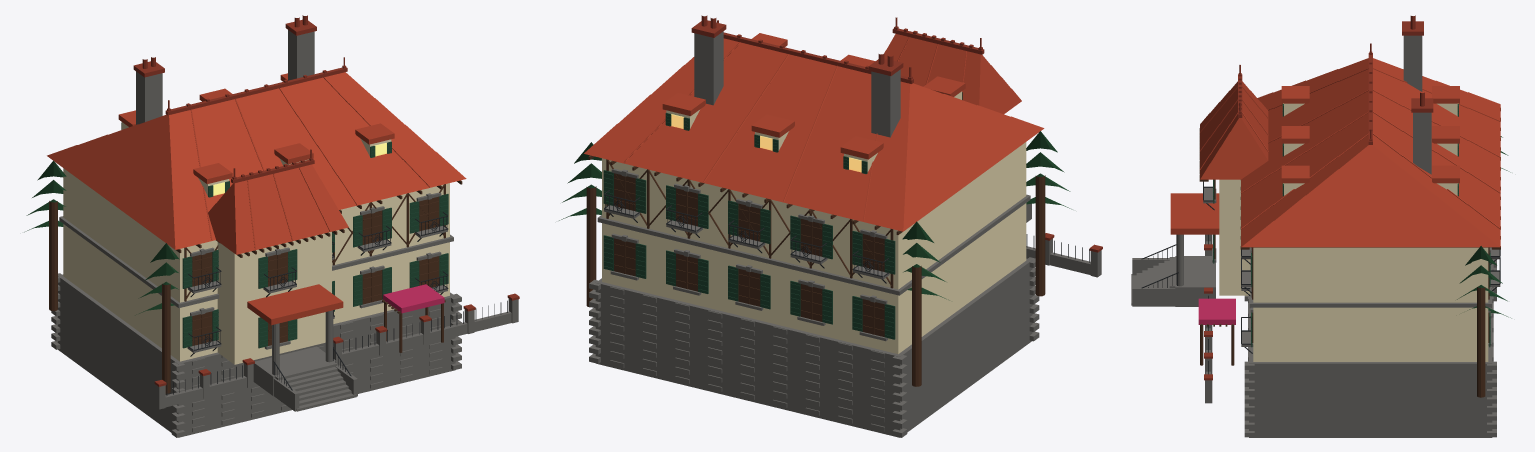
The model's file is fv_ll_06_ana_mandara_villa_17_basque.glb.
The picture shows the model from 3 angles, left to right: view 1: azimuth 30°, elevation 25°; view 2: azimuth 150°, elevation 25°; view 3: azimuth 270°, elevation 25°; orthographic projection. The views are drawn at different scales.
Parts seen in each view (by area): view 1: marseille_corrugated_roof_tiles, granite_foundation_and_stairs, stucco_facade_and_dormers, colombage_timber_and_eaves, pine_green_louvered_shutters, ridge_cresting_and_chimneys, wrought_iron_balconies_3d, pine_trees_and_garden_hedges, bougainvillea_pergola_clusters; view 2: marseille_corrugated_roof_tiles, granite_foundation_and_stairs, stucco_facade_and_dormers, colombage_timber_and_eaves, pine_green_louvered_shutters, ridge_cresting_and_chimneys, pine_trees_and_garden_hedges, wrought_iron_balconies_3d; view 3: marseille_corrugated_roof_tiles, stucco_facade_and_dormers, granite_foundation_and_stairs, colombage_timber_and_eaves, ridge_cresting_and_chimneys, bougainvillea_pergola_clusters, wrought_iron_balconies_3d, pine_trees_and_garden_hedges, pine_green_louvered_shutters.
Part boxes in pixels (x1,y1,x2,y2): marseille_corrugated_roof_tiles: (47,72,466,325); granite_foundation_and_stairs: (51,30,518,437); stucco_facade_and_dormers: (63,122,449,364); colombage_timber_and_eaves: (49,180,462,393); pine_green_louvered_shutters: (121,123,448,348); ridge_cresting_and_chimneys: (133,15,519,386); wrought_iron_balconies_3d: (166,212,507,395); pine_trees_and_garden_hedges: (24,160,179,315); bougainvillea_pergola_clusters: (383,284,444,313); marseille_corrugated_roof_tiles: (584,33,1044,231); granite_foundation_and_stairs: (589,31,1101,437); stucco_facade_and_dormers: (602,91,1026,354); colombage_timber_and_eaves: (586,155,1045,386); pine_green_louvered_shutters: (603,92,962,339); ridge_cresting_and_chimneys: (691,15,1102,252); pine_trees_and_garden_hedges: (559,131,1072,300); wrought_iron_balconies_3d: (604,190,1089,283); marseille_corrugated_roof_tiles: (1170,58,1500,247); stucco_facade_and_dormers: (1219,103,1488,361); granite_foundation_and_stairs: (1131,35,1500,437); colombage_timber_and_eaves: (1199,108,1500,397); ridge_cresting_and_chimneys: (1204,15,1433,380); bougainvillea_pergola_clusters: (1198,298,1235,324); wrought_iron_balconies_3d: (1141,181,1500,374); pine_trees_and_garden_hedges: (1457,136,1511,318); pine_green_louvered_shutters: (1213,104,1490,347).
Size of the model in its own units: 24.59 by 19.83 by 22.58.
